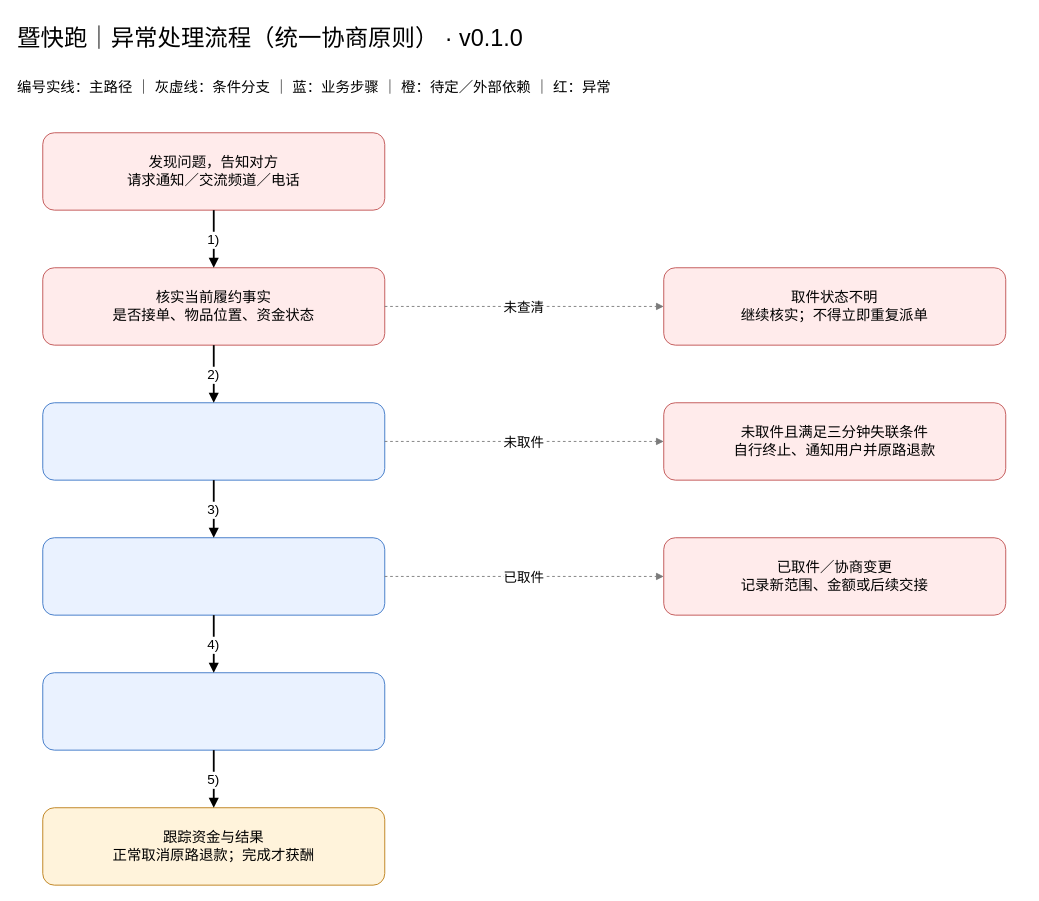
Some shapes in this 1039 by 901 pixel diagram are drawn without their labels. The centre of each missing label's shape, as x and y in pixels:
尝试协商能否继续 能继续返回原流程；否则分阶段: the point at 213,441
执行处理并通知 未取件可协商退出；已取件先交接: the point at 213,711
记录双方处理结果 普通取消双方同意；失联按规则: the point at 213,576
